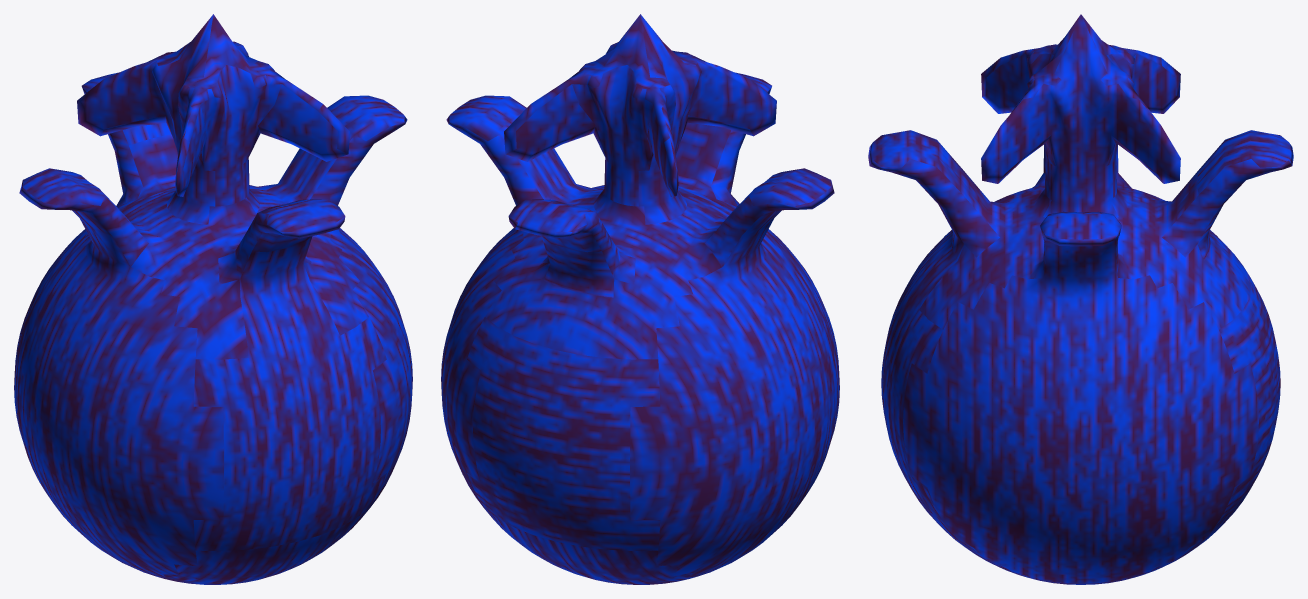
Rendered from HadesOut.fbx.
3 renders of one model, left to right at view 1: azimuth 30°, elevation 25°; view 2: azimuth 150°, elevation 25°; view 3: azimuth 270°, elevation 25°, orthographic.
Visible parts, largest first — view 1: pSphere1; view 2: pSphere1; view 3: pSphere1.
Boxes of the visible parts, x1=… form: pSphere1: x1=14, y1=14, x2=412, y2=584; pSphere1: x1=441, y1=14, x2=839, y2=584; pSphere1: x1=868, y1=14, x2=1293, y2=584.
Bounding box in the file's own units: 2.1 × 3.01 × 2.1.
